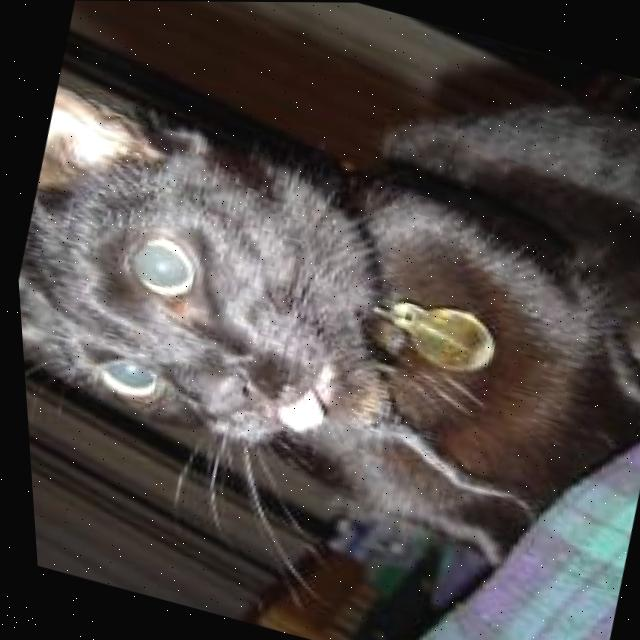Bombay: (0, 0, 640, 603)
